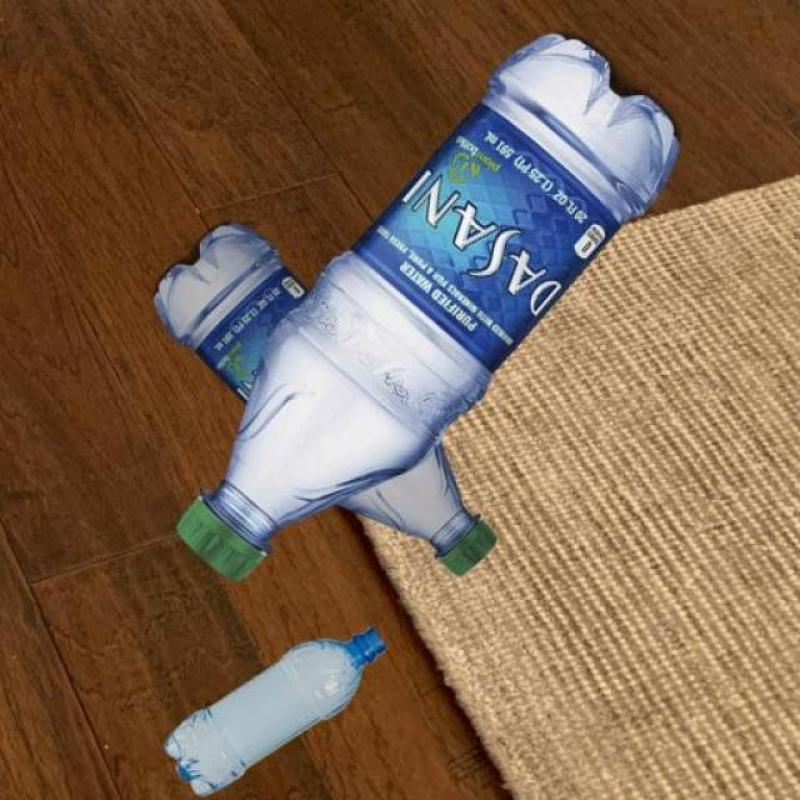botella: (178, 29, 678, 577), (150, 222, 500, 577), (166, 630, 384, 800)
